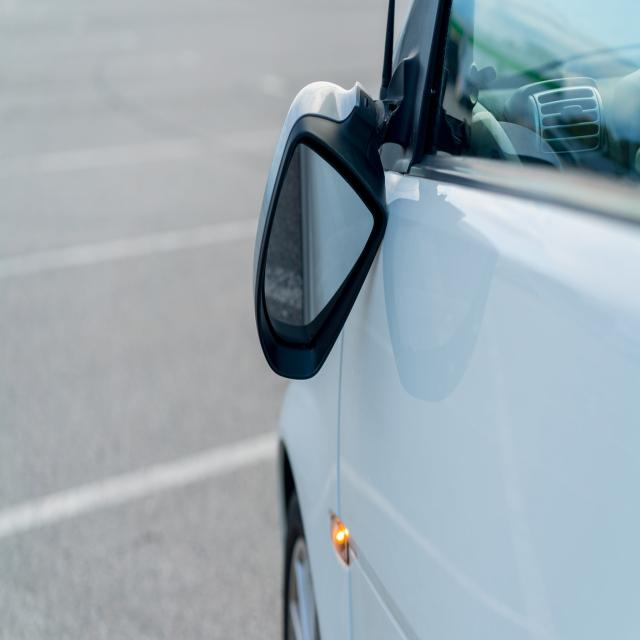crack: (354, 81, 402, 149)
